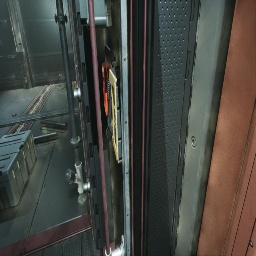EmergencyPhone ,: (105, 45, 122, 164)
FireAlarm ,: (102, 61, 111, 117)
FireExtinguisher ]: (72, 81, 76, 86)
